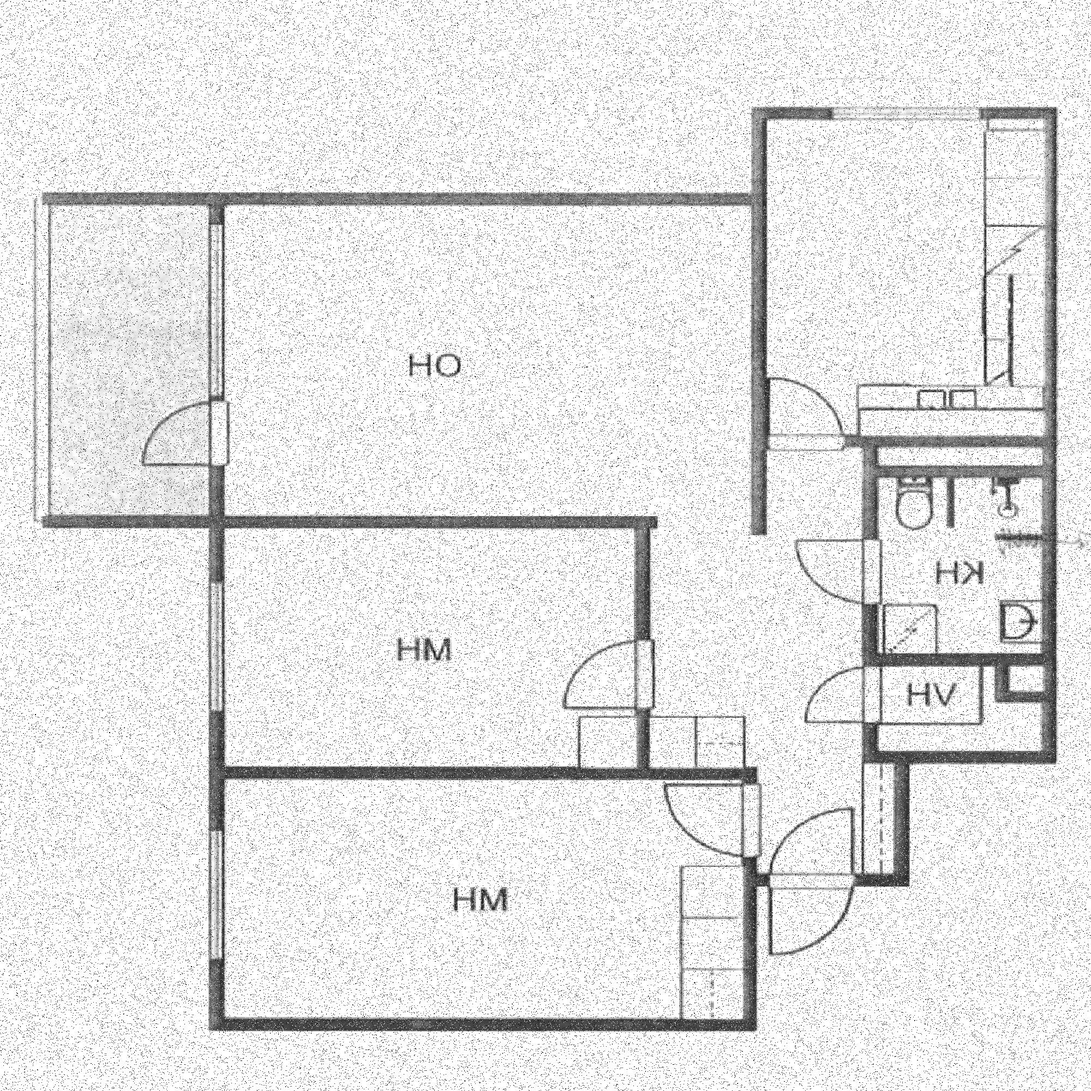wall: (211, 193, 225, 1033), (1043, 108, 1057, 764), (211, 1020, 758, 1033), (211, 193, 766, 205), (211, 768, 758, 780), (211, 516, 649, 529), (864, 448, 1058, 477), (752, 205, 766, 536), (864, 435, 878, 764), (635, 516, 650, 781), (752, 107, 1057, 120), (752, 435, 1057, 448), (864, 654, 1058, 666), (35, 516, 211, 529), (743, 873, 757, 1033), (996, 666, 1057, 702), (894, 751, 1057, 764), (35, 193, 211, 205), (894, 751, 909, 886), (743, 874, 909, 886), (743, 768, 757, 874), (752, 107, 766, 205), (996, 654, 1011, 702), (864, 751, 894, 764), (635, 516, 650, 529)
